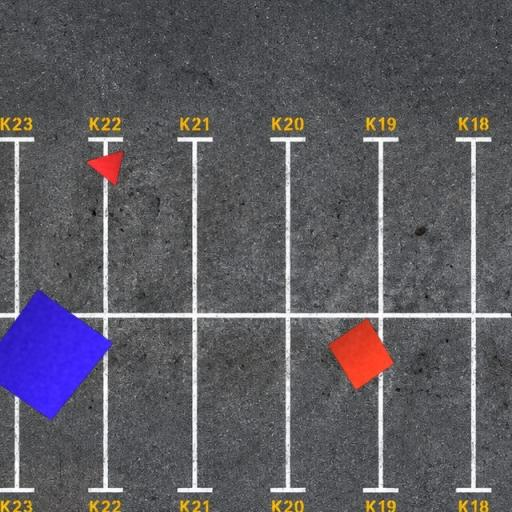BLUE_SQUARE: (0, 289, 114, 421)
RED_SQUARE: (327, 317, 395, 391)
